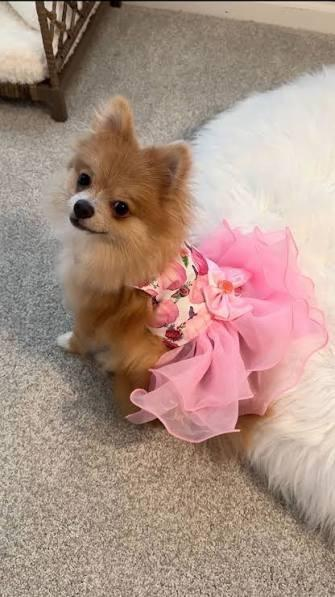adult_dog: (46, 95, 326, 455)
